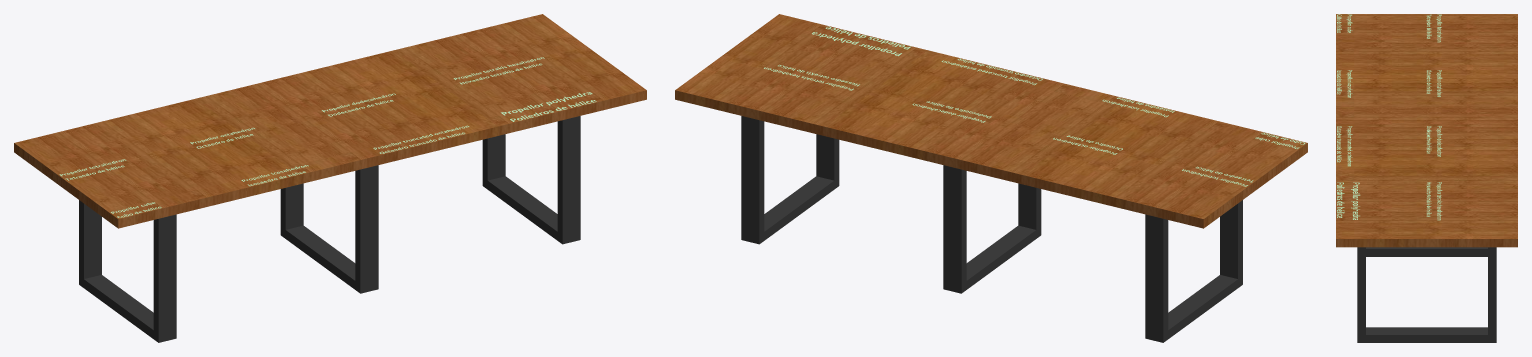
The model's file is propellor1.glb.
The picture shows the model from 3 angles, left to right: view 1: azimuth 30°, elevation 25°; view 2: azimuth 150°, elevation 25°; view 3: azimuth 270°, elevation 25°; orthographic projection. The views are drawn at different scales.
Parts seen in each view (by area): view 1: object 1, Composant#1 (×3), Propellor polyhe; view 2: object 1, Composant#1 (×3), Propellor polyhe; view 3: object 1, Composant#1 (×2), Propellor polyhe, Propellor trunca, Propellor tetrak, Propellor dodeca, Propellor tetrah, Propellor icosah, Propellor octahe, Propellor cube C.
Part boxes in pixels (x1,y1,x2,y2): object 1: [14, 14, 646, 228]; Composant#1 (×3): [79, 116, 580, 342]; Propellor polyhe: [501, 92, 596, 121]; object 1: [675, 14, 1307, 228]; Composant#1 (×3): [741, 116, 1242, 342]; Propellor polyhe: [812, 26, 910, 56]; object 1: [1336, 14, 1517, 247]; Composant#1 (×2): [1357, 247, 1496, 342]; Propellor polyhe: [1337, 182, 1360, 219]; Propellor trunca: [1337, 126, 1352, 166]; Propellor tetrak: [1426, 182, 1442, 220]; Propellor dodeca: [1426, 126, 1442, 156]; Propellor tetrah: [1426, 14, 1441, 42]; Propellor icosah: [1337, 70, 1352, 97]; Propellor octahe: [1426, 70, 1442, 96]; Propellor cube C: [1337, 14, 1352, 32].
Size of the model in its own units: 2.93 by 0.7711 by 1.
3 materials, 1 textured.
